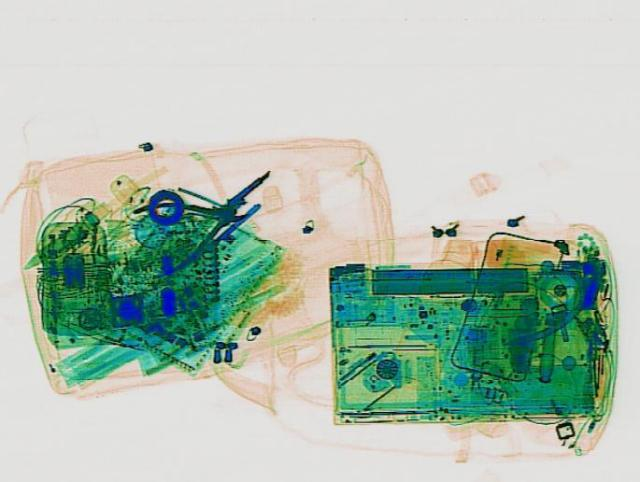Pliers: (125, 180, 268, 272)
